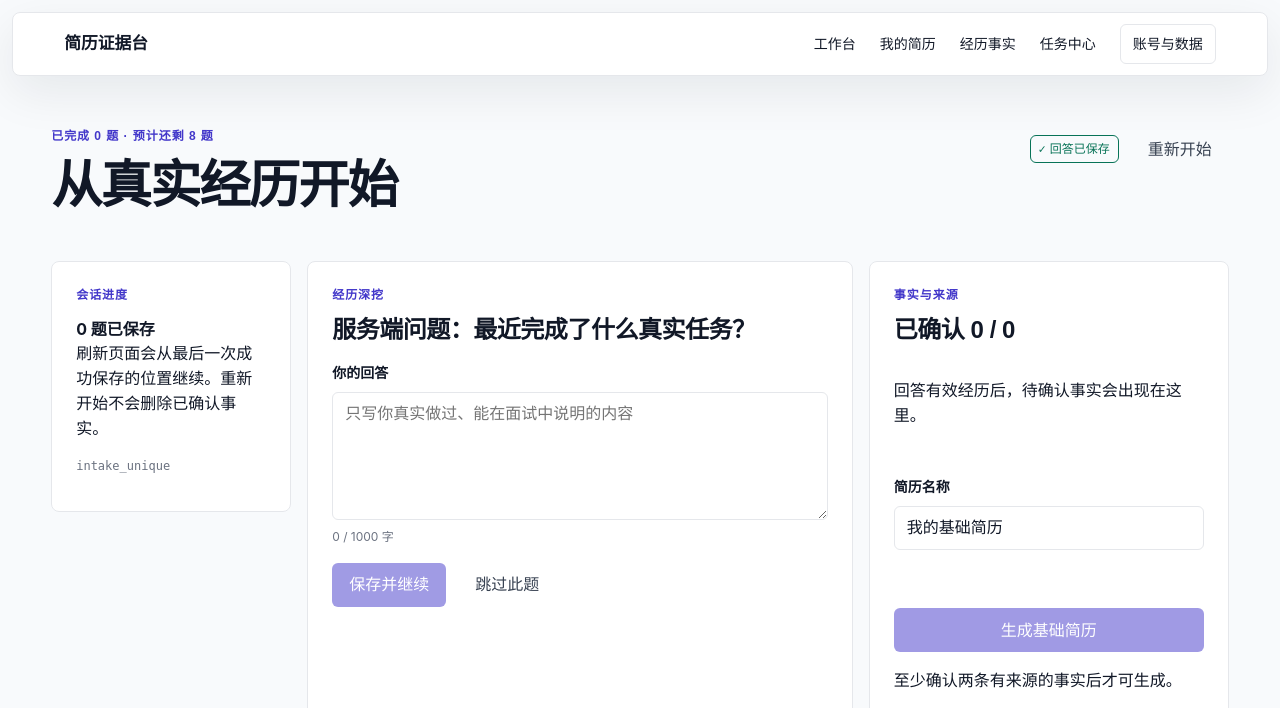
Test case: V2 persisted intake › polls a queued answer analysis, reloads the candidate source, and accepts it as a confirmed fact
Type "我组织了校园招聘活动" into the text box labelled "你的回答".
click(580, 456); type("我组织了校园招聘活动")  # box [332,392,828,520]
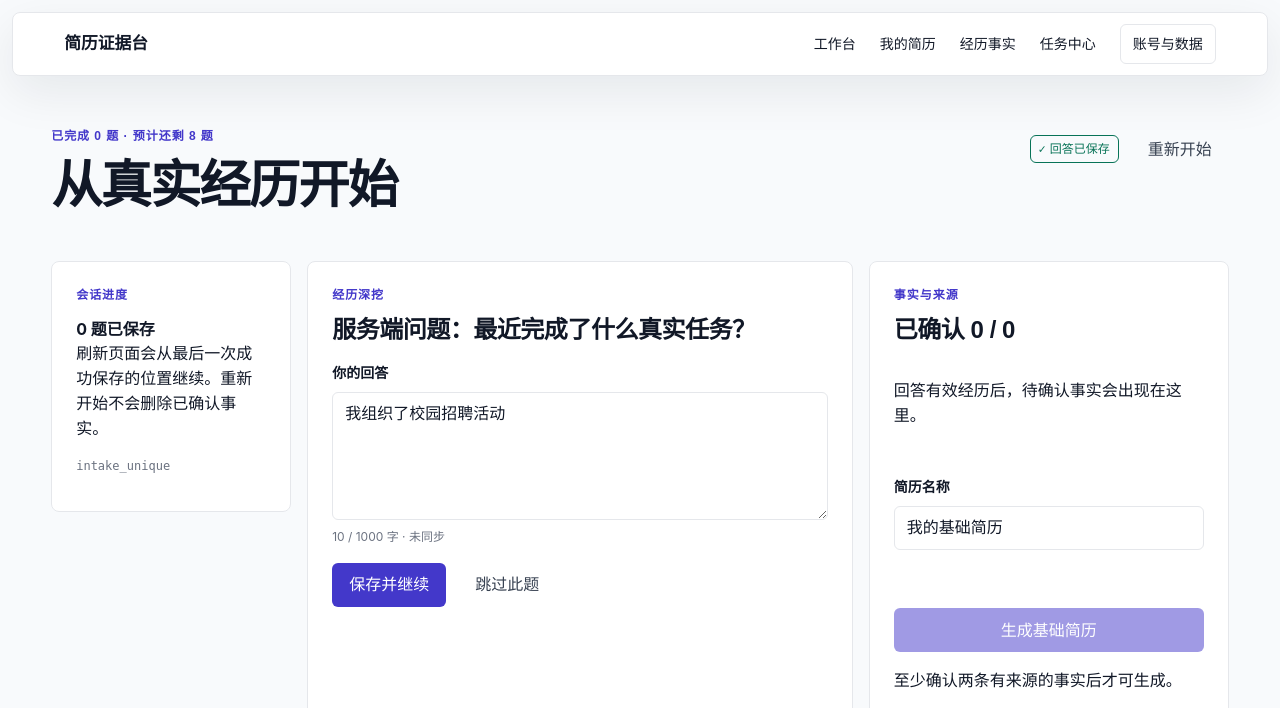
Click the button "保存并继续".
click(389, 585)  # box [332,563,446,607]
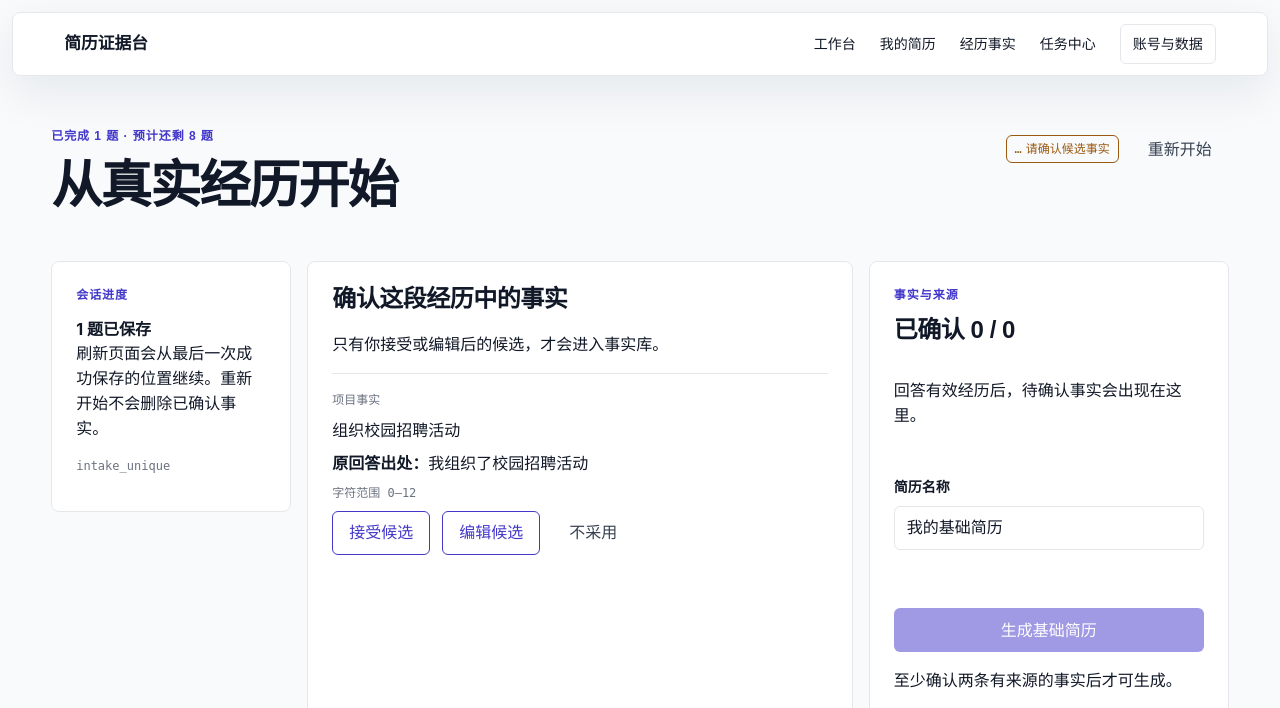
Expected: the heading named "正在整理这段经历" is shown, [332,285,567,312]
Expected: the text "我组织了校园招聘活动" is shown, [428,453,588,473]
Expected: the text "项目事实" is shown, [332,392,380,407]
Click the button with aria-label "接受候选 1".
click(381, 533)  # box [332,511,430,555]
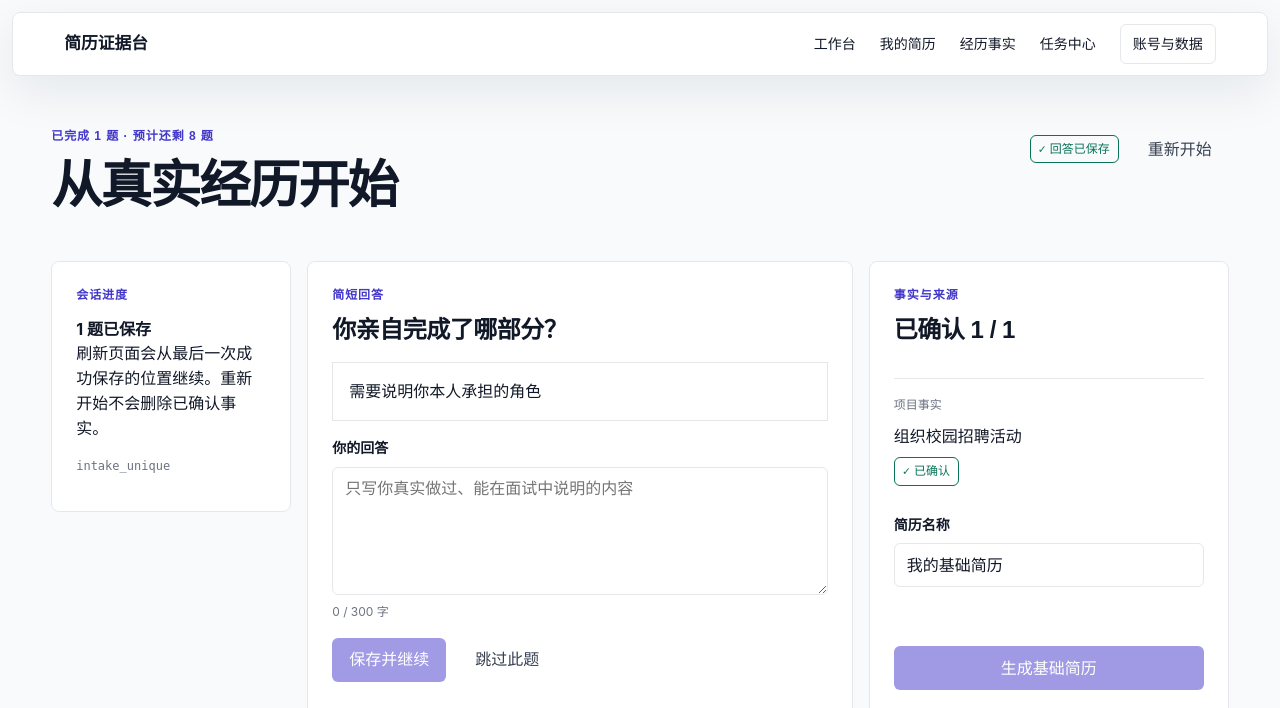
Expected: the text "组织校园招聘活动" is shown, [894,426,1022,446]
Expected: the heading "已确认 1 / 1" is shown, [894,316,1015,343]
